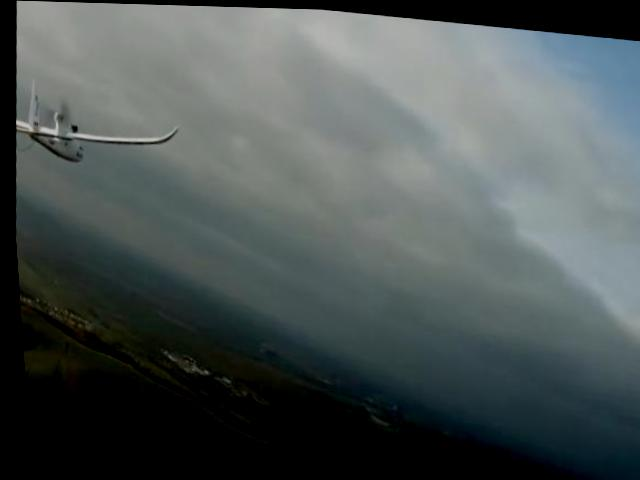iha: (9, 73, 187, 173)
